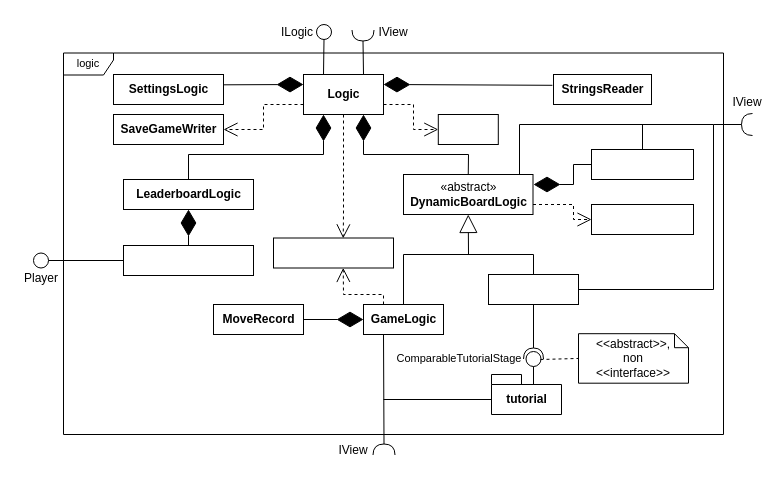
The diagram is 784 pixels wide and 483 high, and some of its shapes have lost their labels. The shapes that lost their labels are listed below. From the top down, each one's centre as x and y in pixels, then its label:
the point at 467,129: Utilities
the point at 642,164: DiceLogic
the point at 642,219: ConstantsLogic
the point at 188,260: PlayerLogic
the point at 333,252: SaveGameReader
the point at 533,289: TutorialLogic
